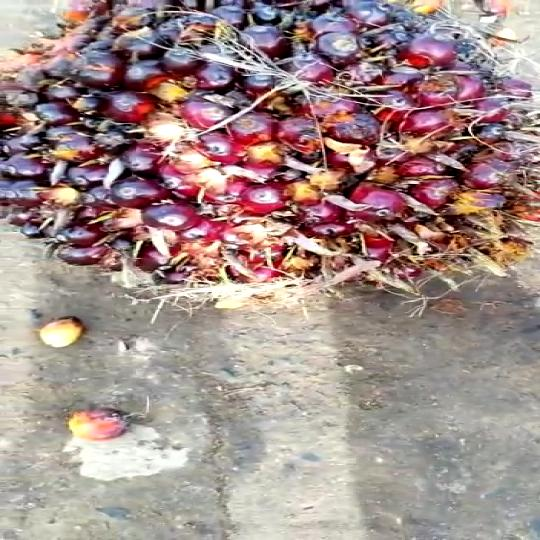masak: (0, 0, 540, 307)
